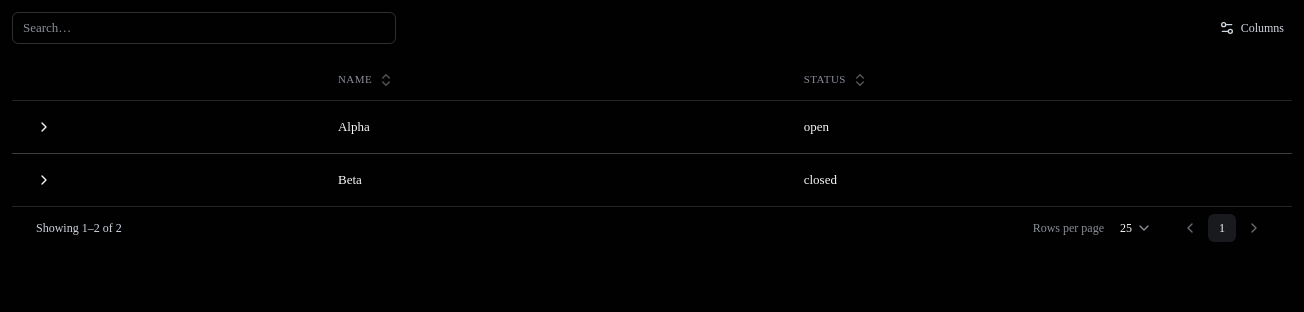
Test: DataTable — expansion › clicking the chevron renders subComponent
The width and height of the screenshot is (1304, 312).
What coordinates should you click on to do the following:
click the button named "expand row" in the row of "Alpha"
I would click on:
 (44, 126)
Its box is [28,110,60,142].
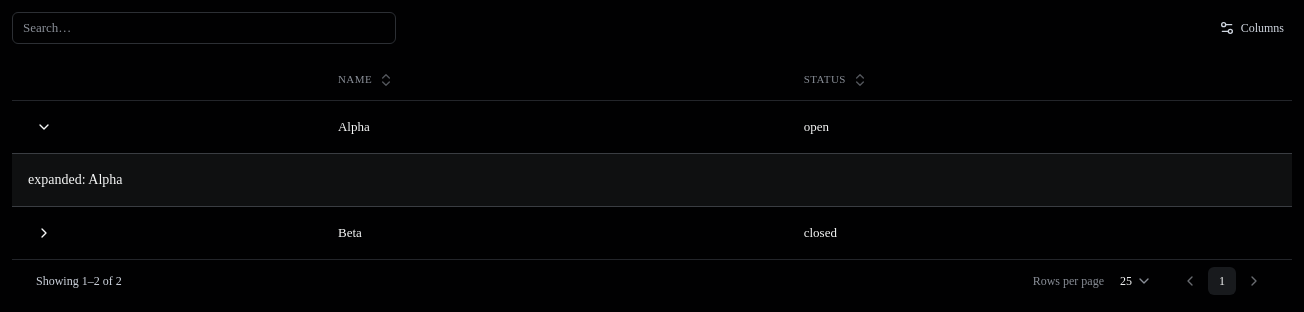
Expected: the text with test id "sub" shows "Alpha", [88,172,122,186]
